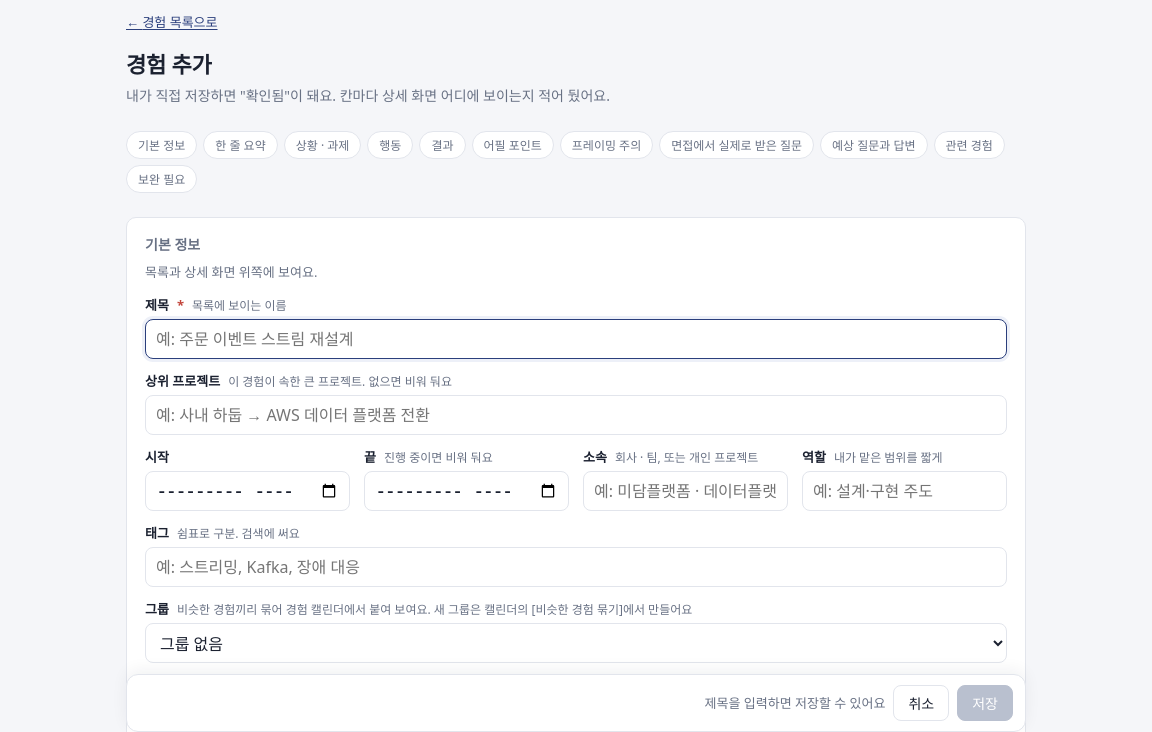
it: ExperienceEditScreen › needs only a title, and saves a new experience as checked
The width and height of the screenshot is (1152, 732).
Expected: the heading "경험 추가" is shown, [126,49,212,79]
Expected: the button "← 경험 목록으로" is shown, [126,12,218,31]
Type "새 경험" into the field labelled "제목 * 목록에 보이는 이름".
click(576, 339); type("새 경험")  # box [145,319,1007,359]
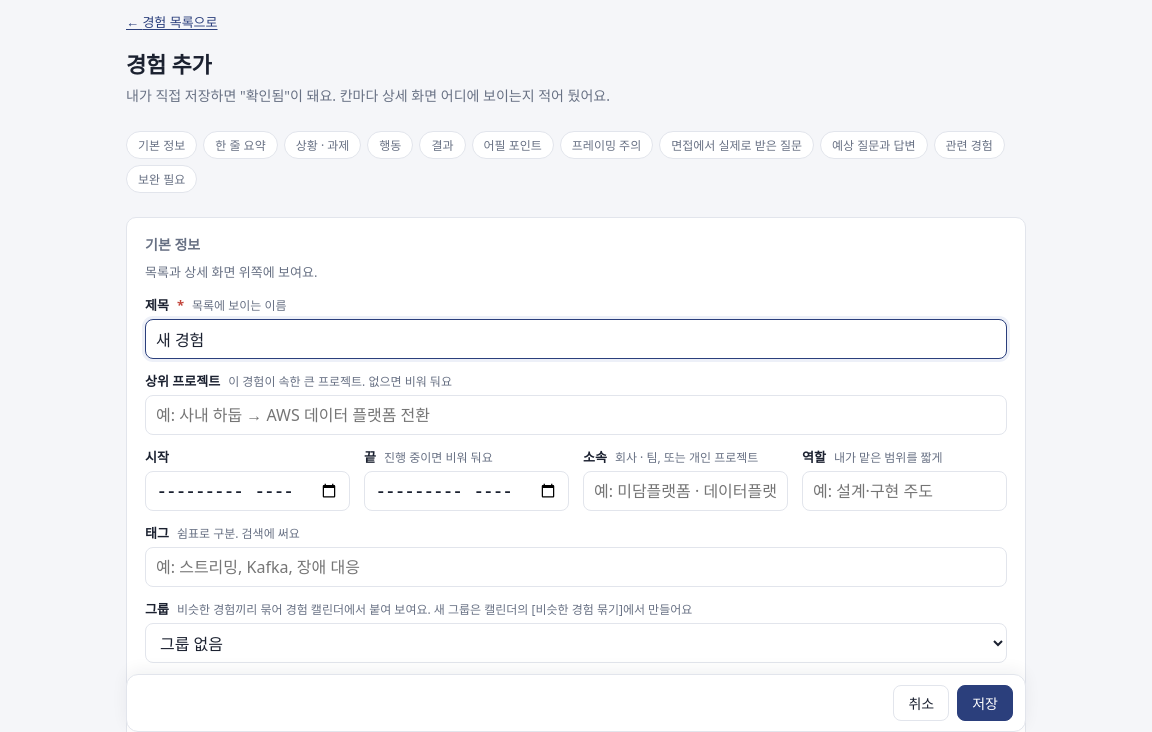
Type "Kafka, 운영" into the field labelled "태그 쉼표로 구분. 검색에 써요".
click(576, 567); type("Kafka, 운영")  # box [145,547,1007,587]
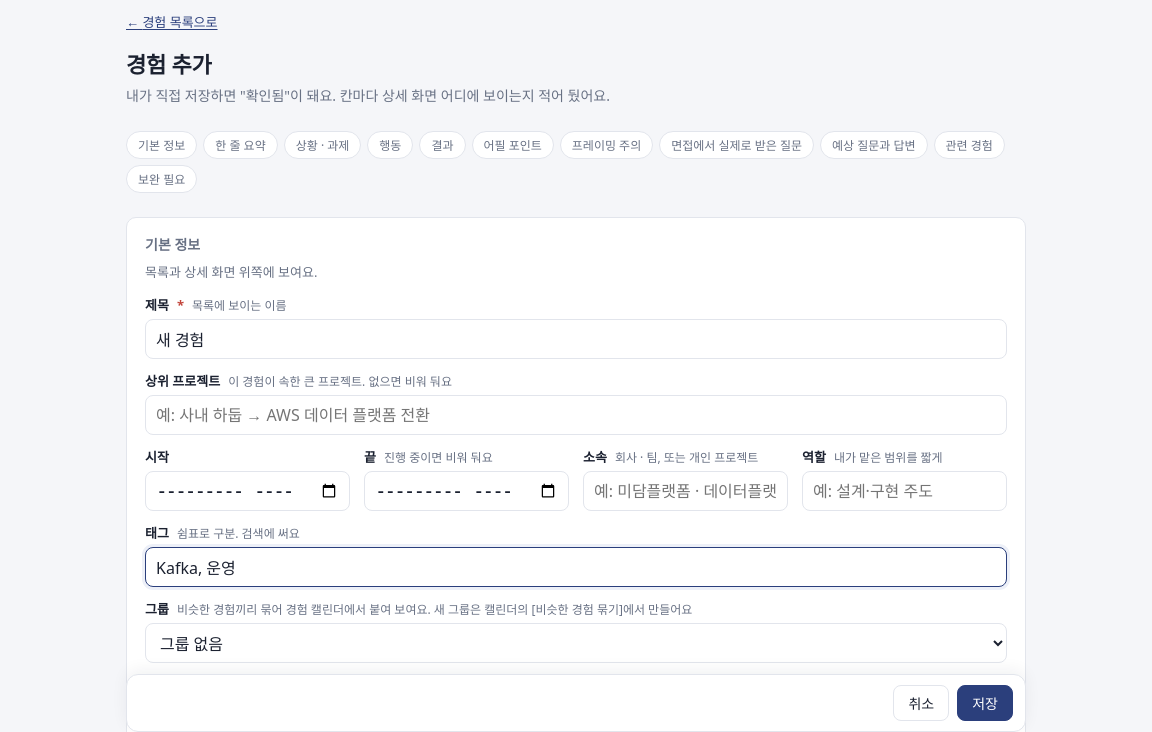
Result: the button "저장" is enabled
Click the button "저장".
click(985, 703)  # box [957,685,1013,721]
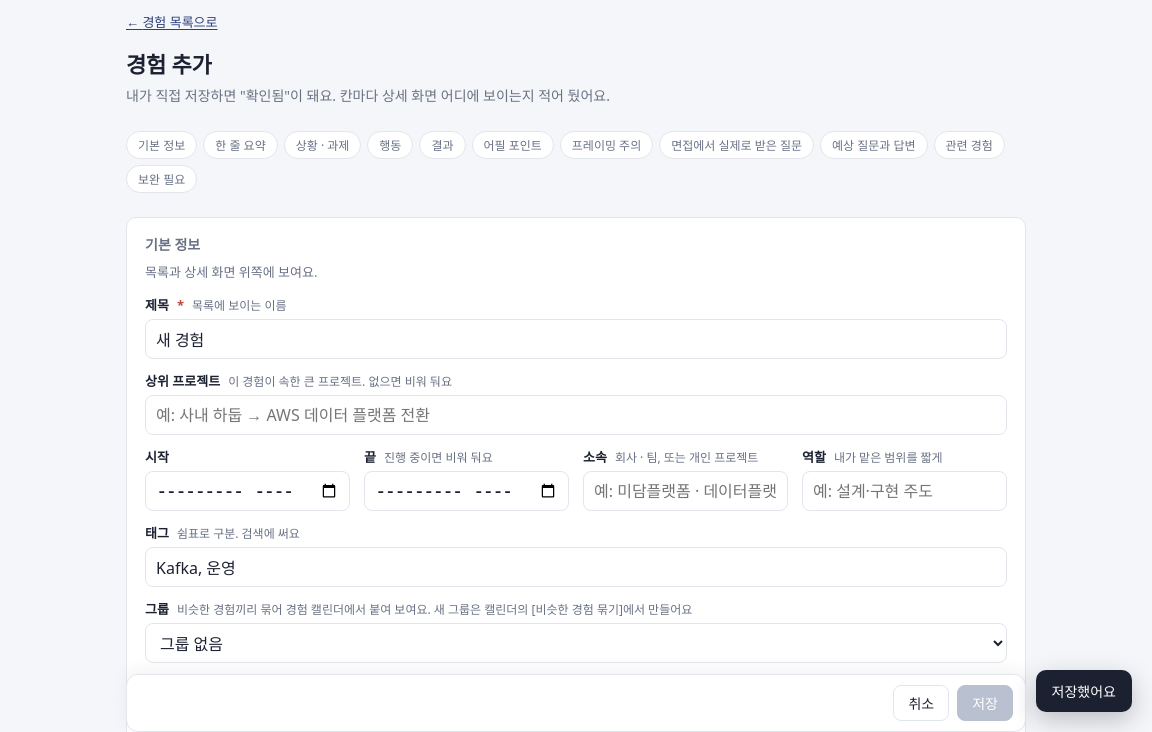
Result: the text "저장했어요" is shown at [1036,670,1132,712]
